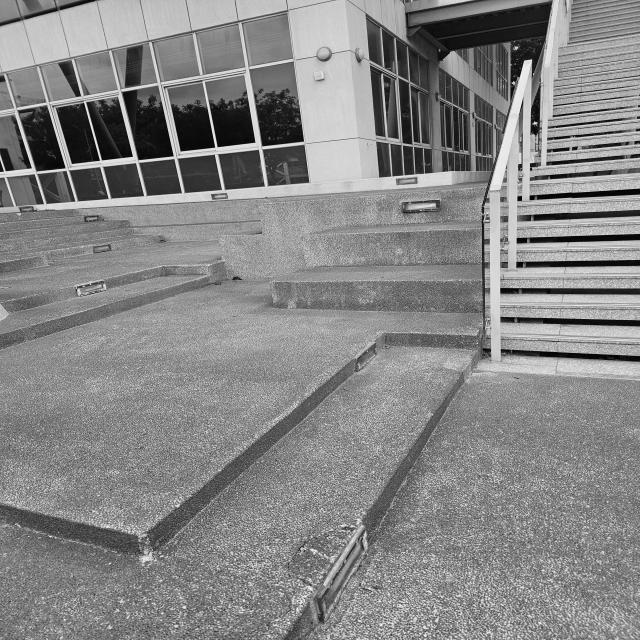floor: (0, 282, 638, 640), (500, 0, 640, 358), (220, 182, 482, 313), (0, 210, 225, 349)
